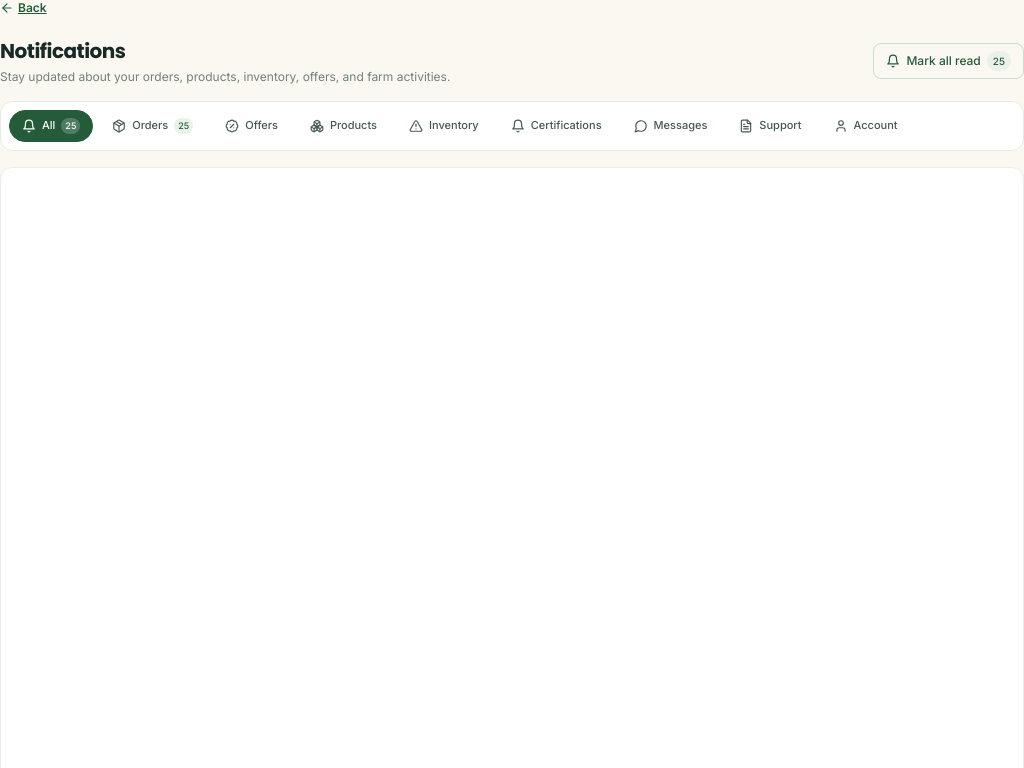
Scenario: Farmer Notification Centre › resets to page 1 when changing category
Click the button "Offers" at (252, 126), box x1=212 y1=110 x2=291 y2=142
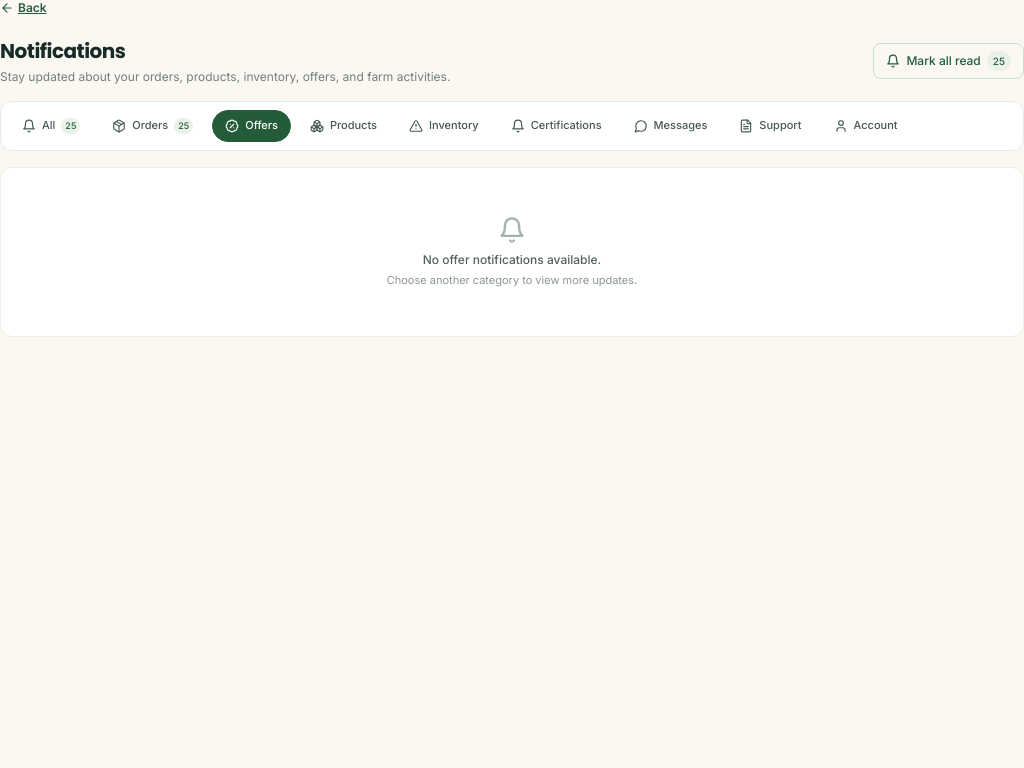
Now the text "No offer notifications available." is shown, box x1=423 y1=252 x2=601 y2=266
